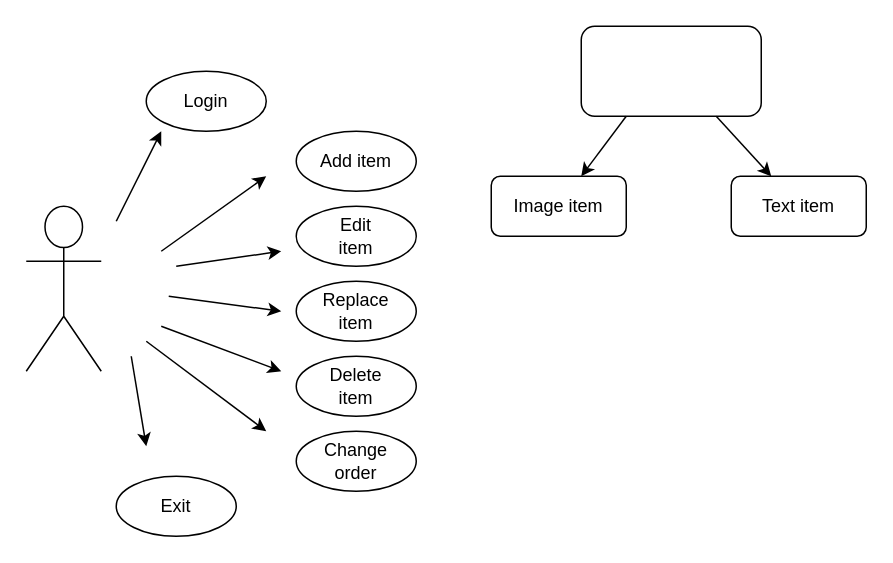
Some shapes in this 893 by 563 pixel diagram are drawn without their labels. The shapes that lost their labels are listed below. From the top down, each one's box as (x1, y1, x2, y2) in pixels, then its label:
(580, 25, 761, 116): Item
(25, 205, 101, 371): User
